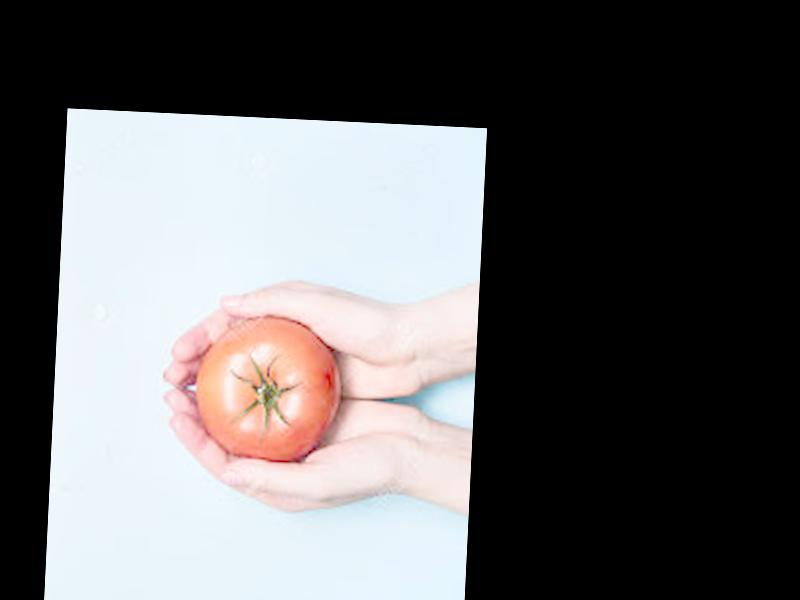Tomato: (193, 313, 342, 467)
